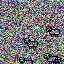sheep: (23, 38, 38, 50), (44, 53, 58, 64), (47, 26, 60, 37), (19, 57, 33, 64)
